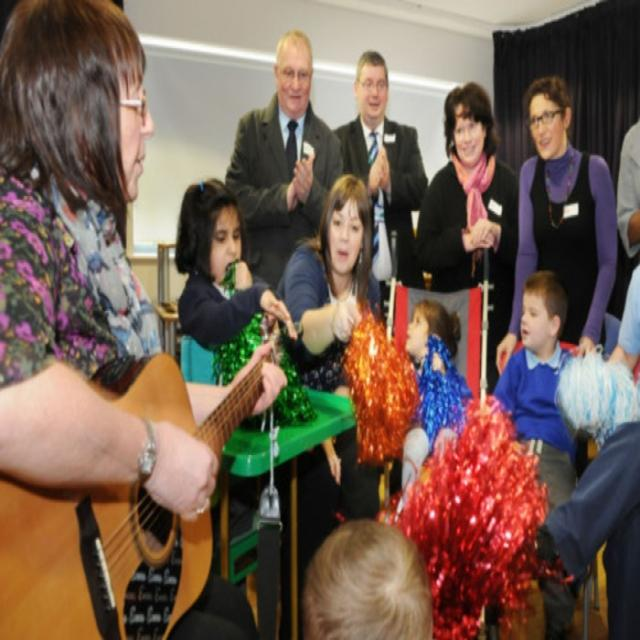body: (0, 0, 292, 639), (275, 171, 387, 640), (529, 256, 639, 639), (481, 267, 590, 640), (494, 73, 617, 381), (411, 80, 520, 396), (221, 30, 345, 296), (330, 46, 431, 324), (172, 175, 300, 358), (304, 515, 446, 639), (403, 297, 474, 451), (615, 117, 639, 259)
